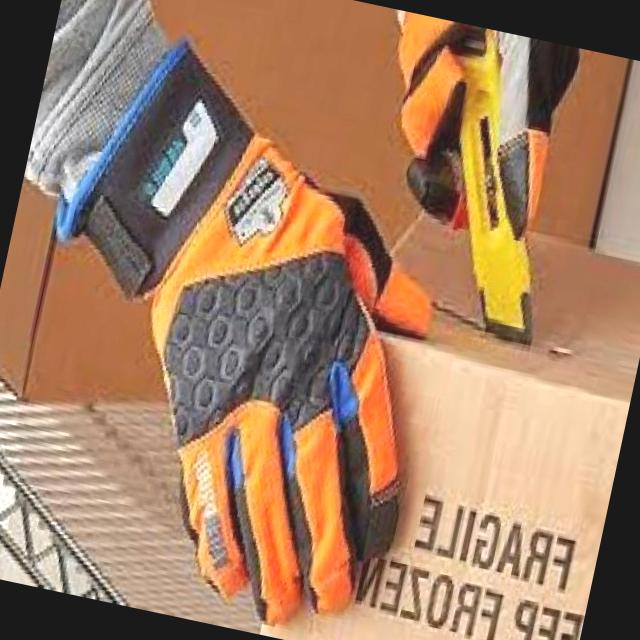gloves: (0, 22, 493, 640)
